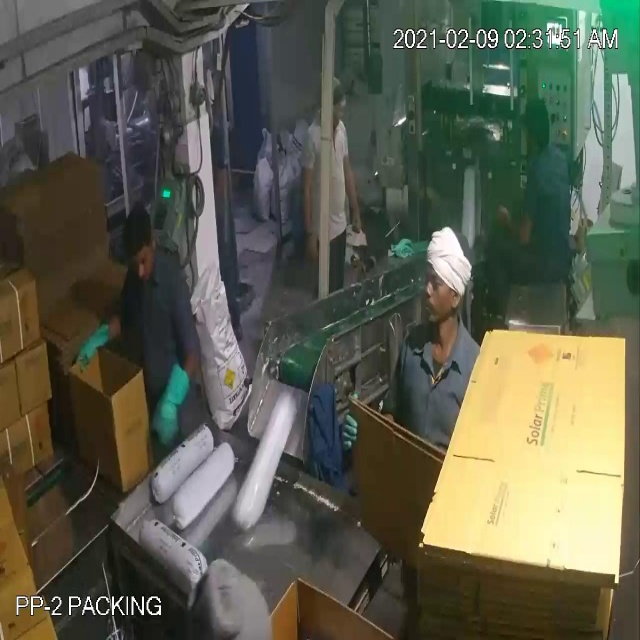Guantes: (141, 342, 196, 456), (66, 315, 126, 384)
Sin_guantes: (483, 180, 547, 258), (289, 152, 325, 270), (340, 139, 364, 253), (208, 154, 230, 236)
